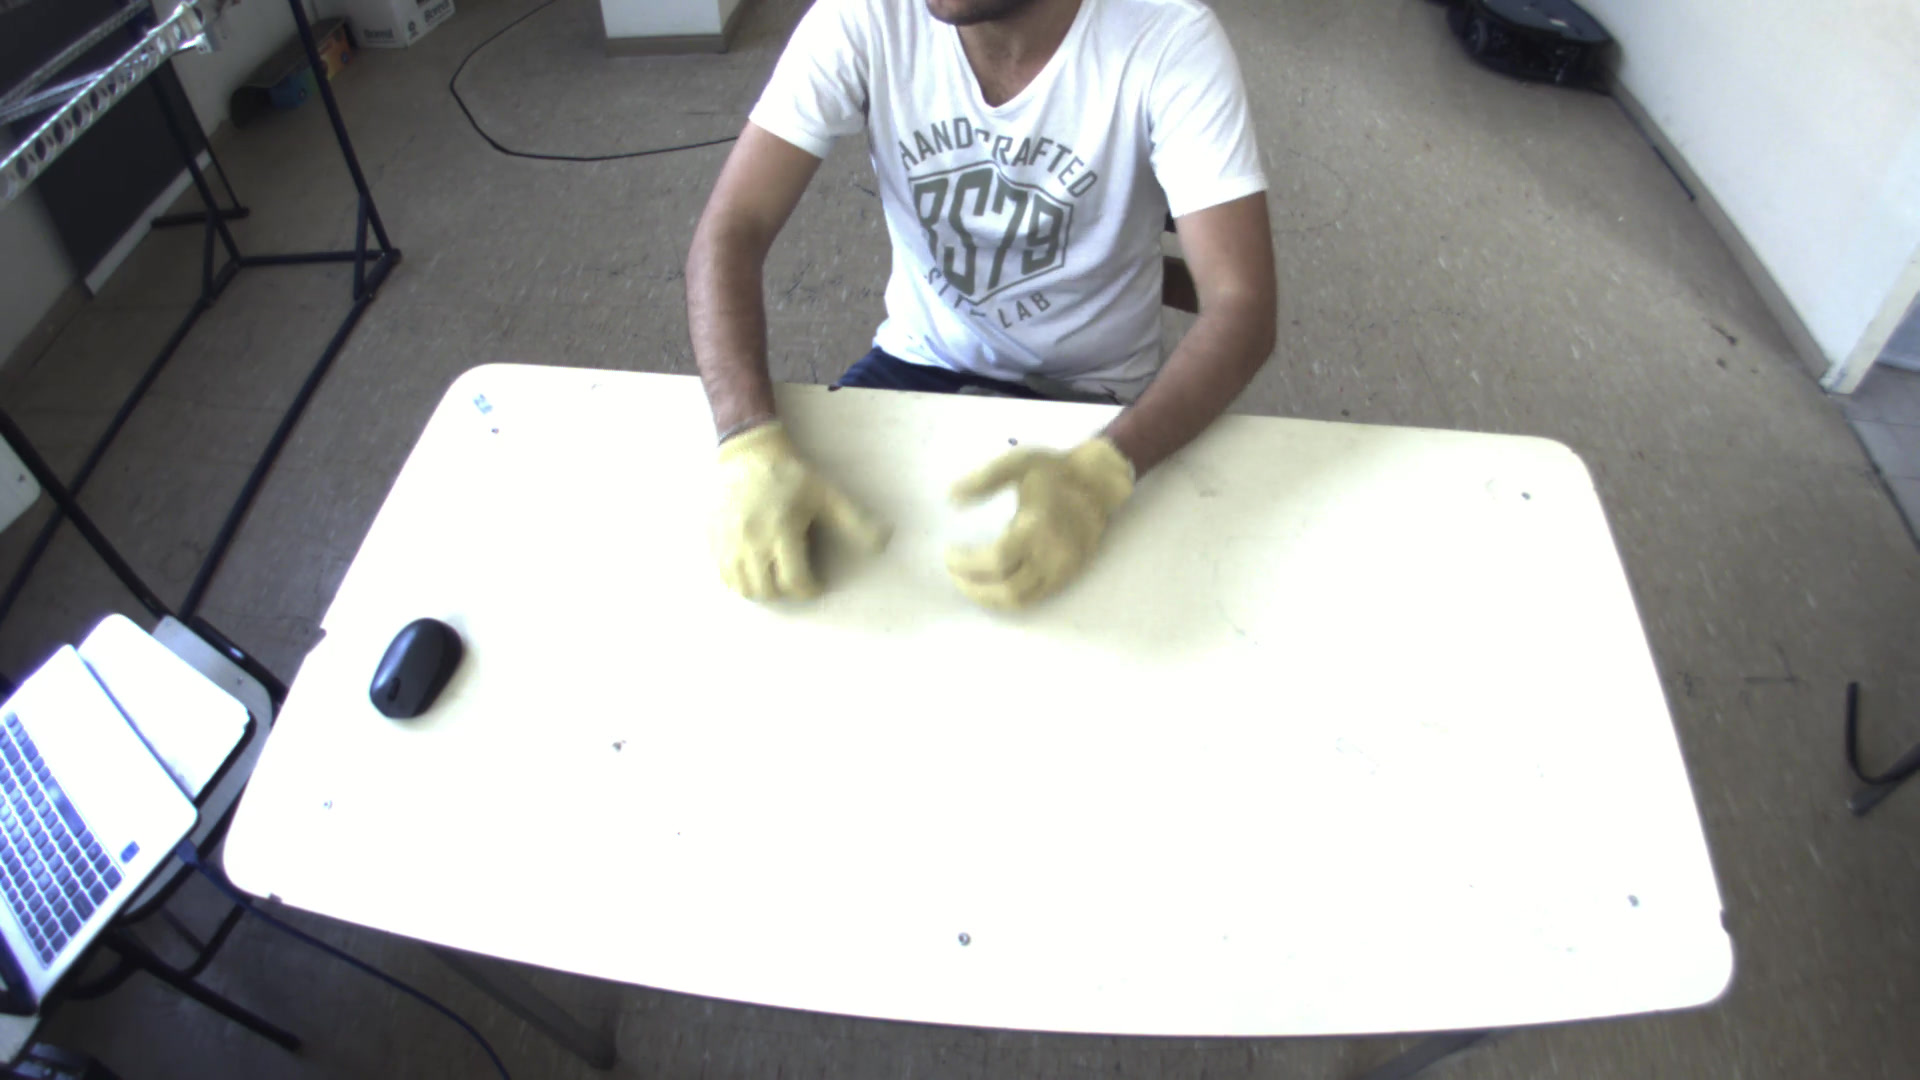hand: (928, 415, 1143, 617)
